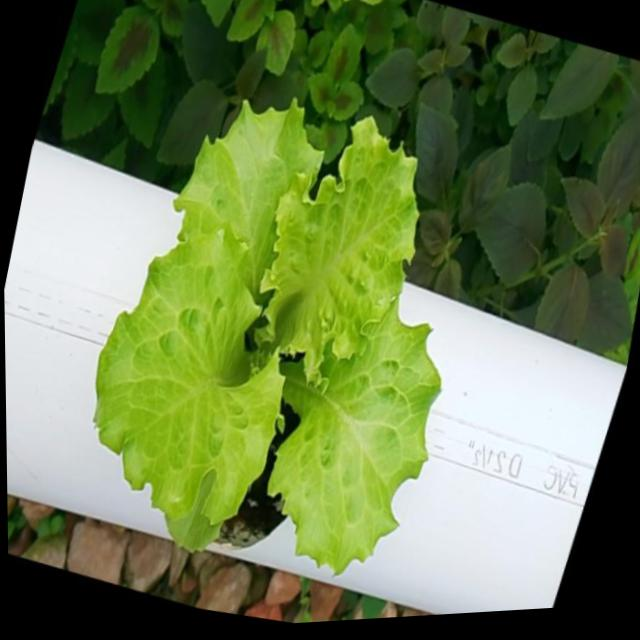Baby: (100, 86, 444, 556)
